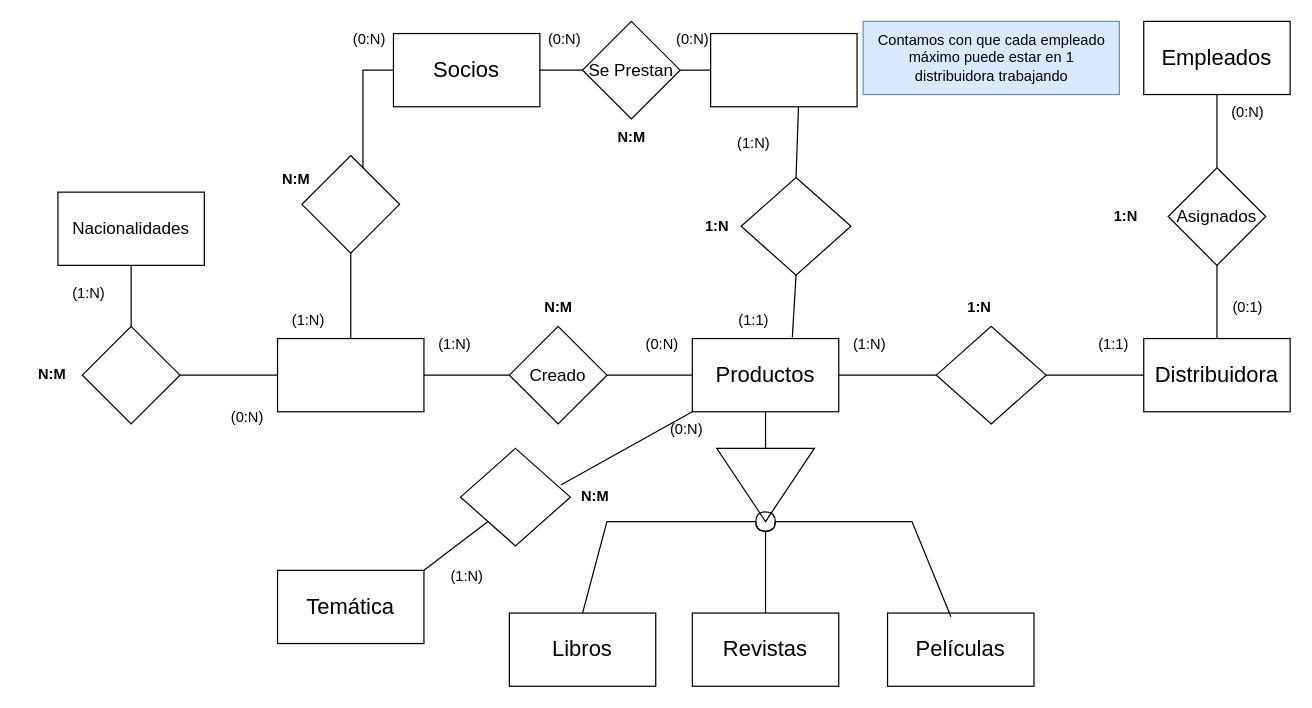
Image size: 1312x708. Some labels were removed from this diagram. Here are the shapes that lost their labels. From the top down, the centre of each, then its label:
At (783,69): "Ejemplares".
At (350,203): "Indican".
At (795,225): "Cuenta con".
At (130,374): "Tienen".
At (350,374): "Autores".
At (990,374): "Publicado".
At (514,496): "Corresponde".
